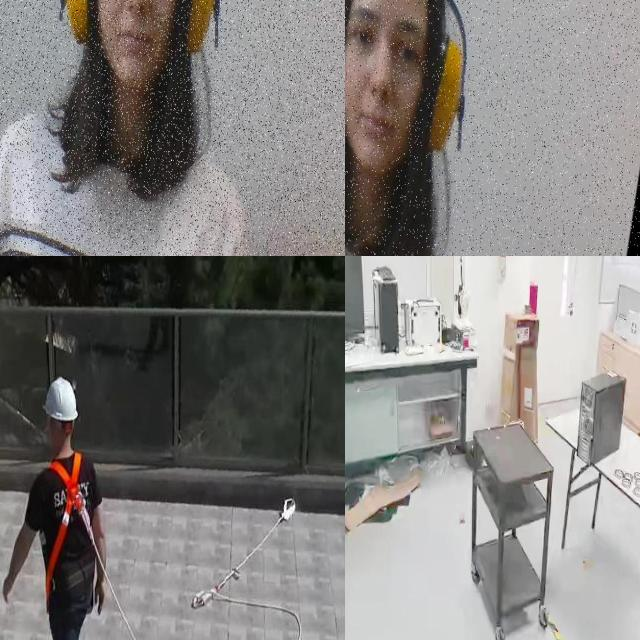Ear-protection: (345, 0, 489, 192), (53, 0, 234, 100)
Harness: (192, 499, 303, 640), (46, 452, 94, 602)
